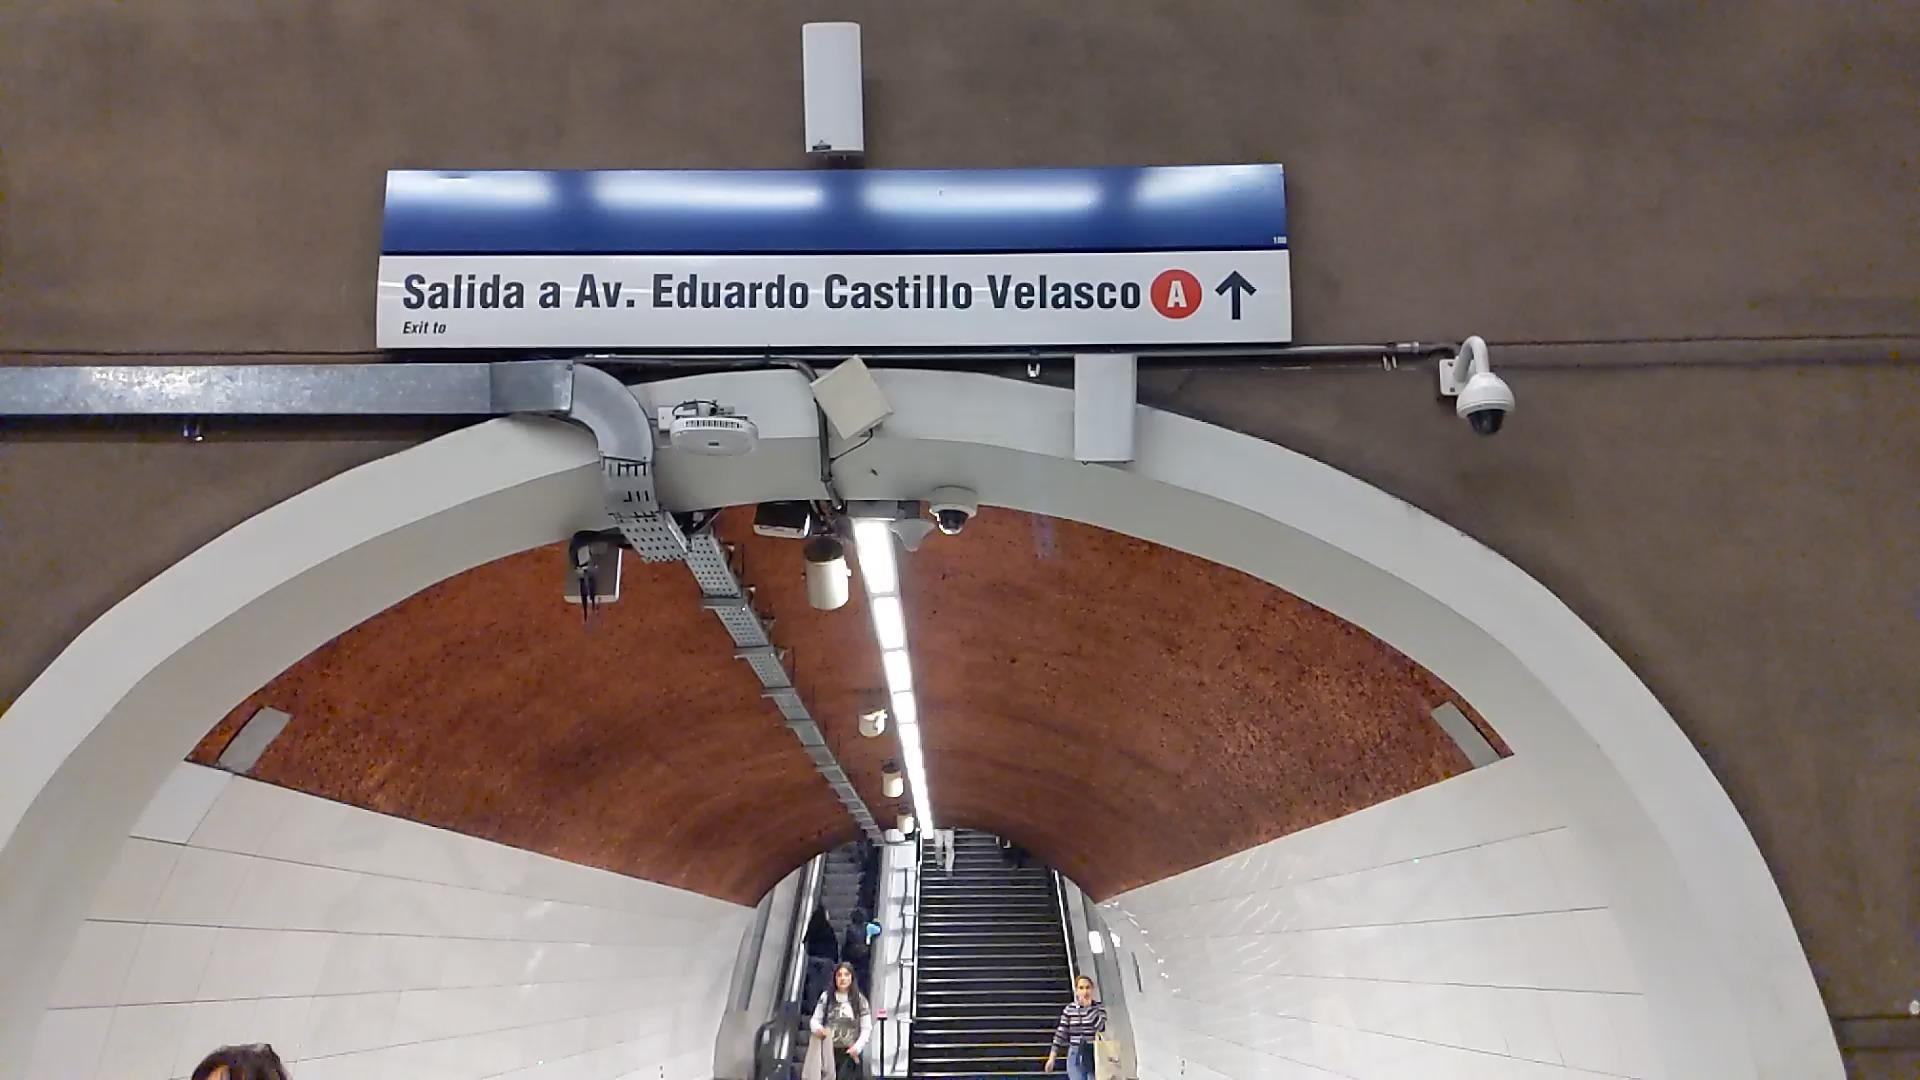left arrow: (1215, 269, 1259, 322)
